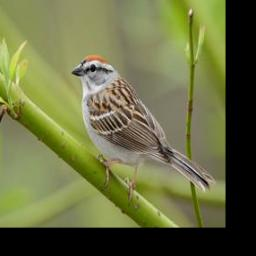Sparrow: (69, 54, 217, 205)
